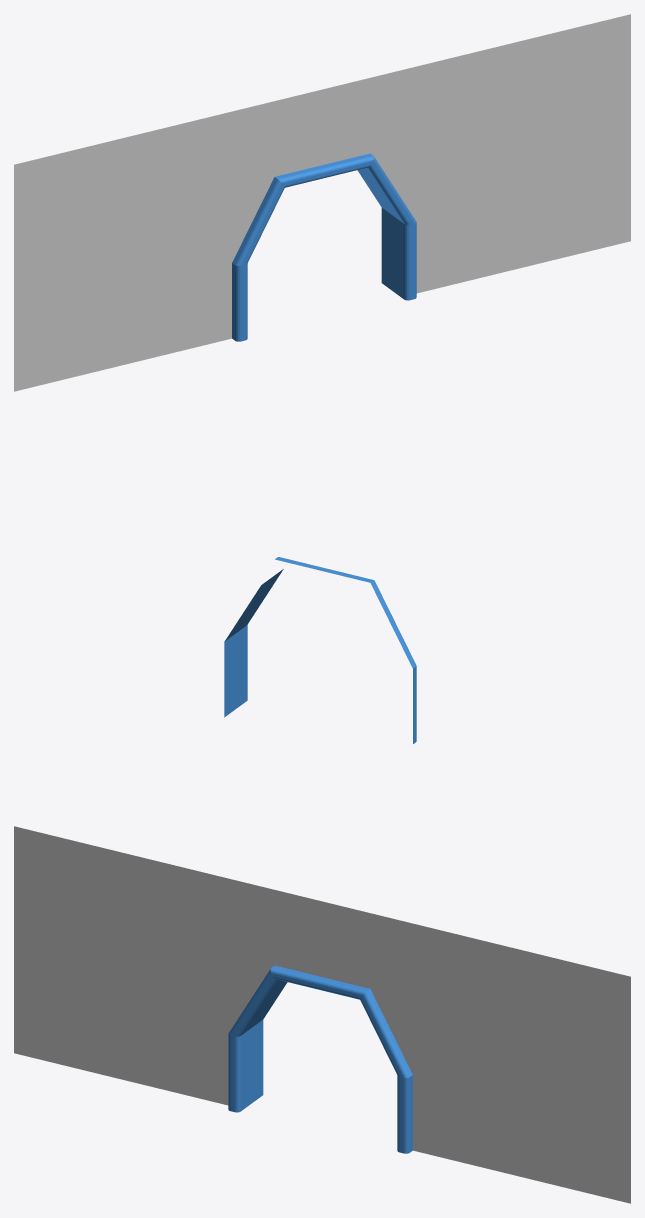
The model's file is wall_with_door.glb.
3 renders of one model, top to bottom at view 1: azimuth 30°, elevation 25°; view 2: azimuth 150°, elevation 25°; view 3: azimuth 330°, elevation 25°, orthographic.
Visible parts, largest first — view 1: Wall_Door; view 2: Wall_Door; view 3: Wall_Door.
Boxes of the visible parts, x1,y1,x2,y2 form: Wall_Door: [14, 14, 630, 391]; Wall_Door: [224, 557, 416, 743]; Wall_Door: [14, 826, 630, 1203].
Size of what is drawn, in the model's own units: 22.75 by 8 by 1.59.
